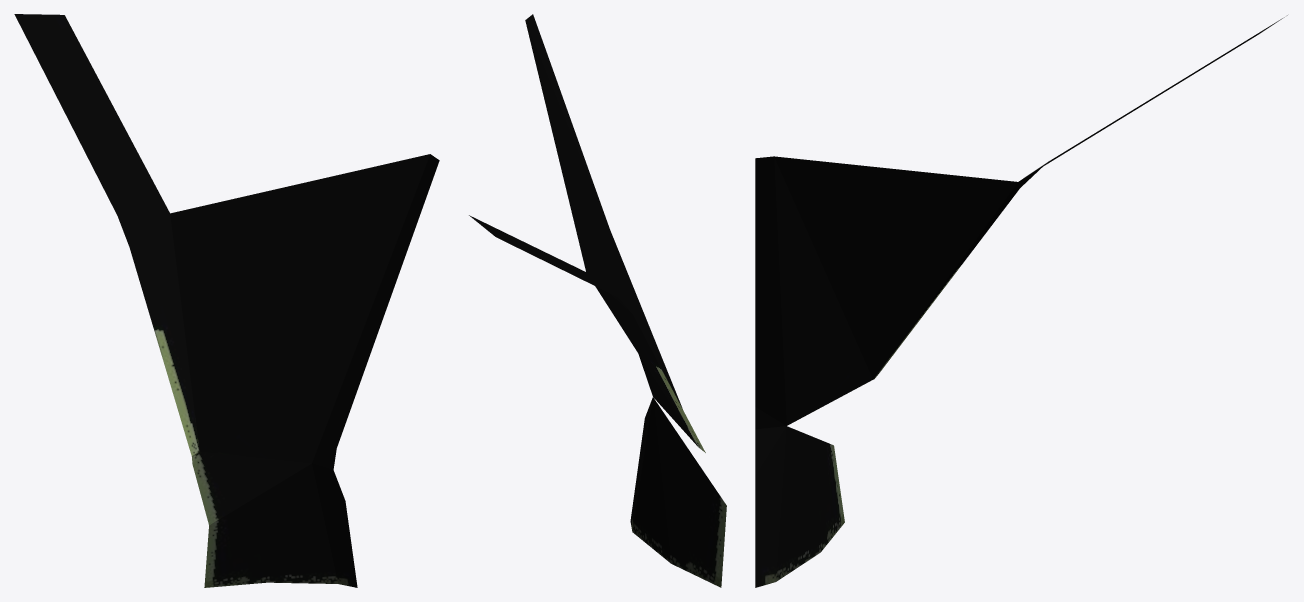
The picture shows the model from 3 angles, left to right: view 1: azimuth 30°, elevation 25°; view 2: azimuth 150°, elevation 25°; view 3: azimuth 270°, elevation 25°; orthographic projection. The views are drawn at different scales.
Bounding box in the file's own units: 2.8 × 5.9 × 5.62.
Materials: 2 (2 with a texture image).
